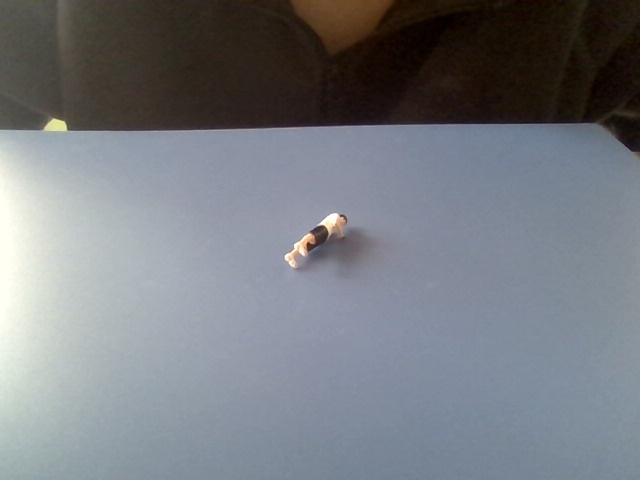fall: (270, 207, 353, 274)
